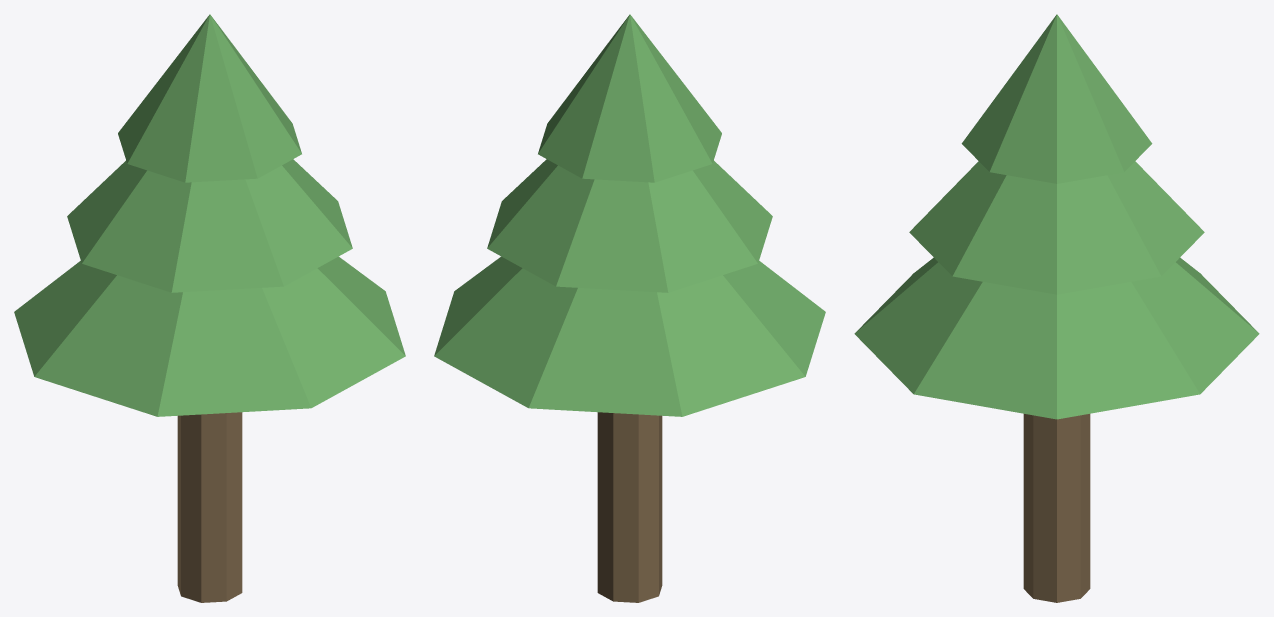
The model's file is tree.glb.
The picture shows the model from 3 angles, left to right: view 1: azimuth 30°, elevation 25°; view 2: azimuth 150°, elevation 25°; view 3: azimuth 270°, elevation 25°; orthographic projection.
Visible parts, largest first — view 1: Tree_Canopy_0, Tree_Canopy_1, Tree_Canopy_2, Tree_Trunk; view 2: Tree_Canopy_0, Tree_Canopy_1, Tree_Canopy_2, Tree_Trunk; view 3: Tree_Canopy_0, Tree_Canopy_1, Tree_Canopy_2, Tree_Trunk.
Part boxes in pixels (x1=…): Tree_Canopy_0: x1=14, y1=256, x2=405, y2=416; Tree_Canopy_1: x1=67, y1=159, x2=352, y2=292; Tree_Canopy_2: x1=118, y1=14, x2=301, y2=182; Tree_Trunk: x1=177, y1=412, x2=242, y2=602; Tree_Canopy_0: x1=434, y1=256, x2=825, y2=416; Tree_Canopy_1: x1=487, y1=159, x2=772, y2=292; Tree_Canopy_2: x1=538, y1=14, x2=721, y2=182; Tree_Trunk: x1=597, y1=412, x2=662, y2=602; Tree_Canopy_0: x1=854, y1=257, x2=1259, y2=419; Tree_Canopy_1: x1=909, y1=161, x2=1204, y2=294; Tree_Canopy_2: x1=961, y1=14, x2=1152, y2=183; Tree_Trunk: x1=1023, y1=414, x2=1090, y2=602.
Bounding box in the file's own units: 1.7 × 2.66 × 1.7.
